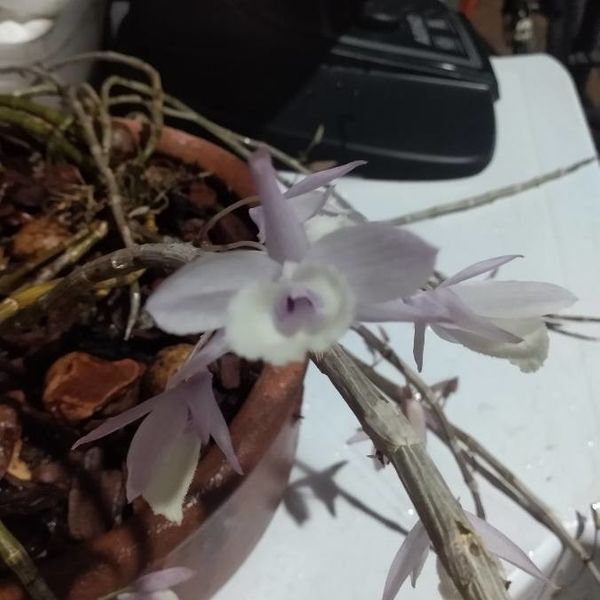obstacle: (66, 113, 474, 575)
